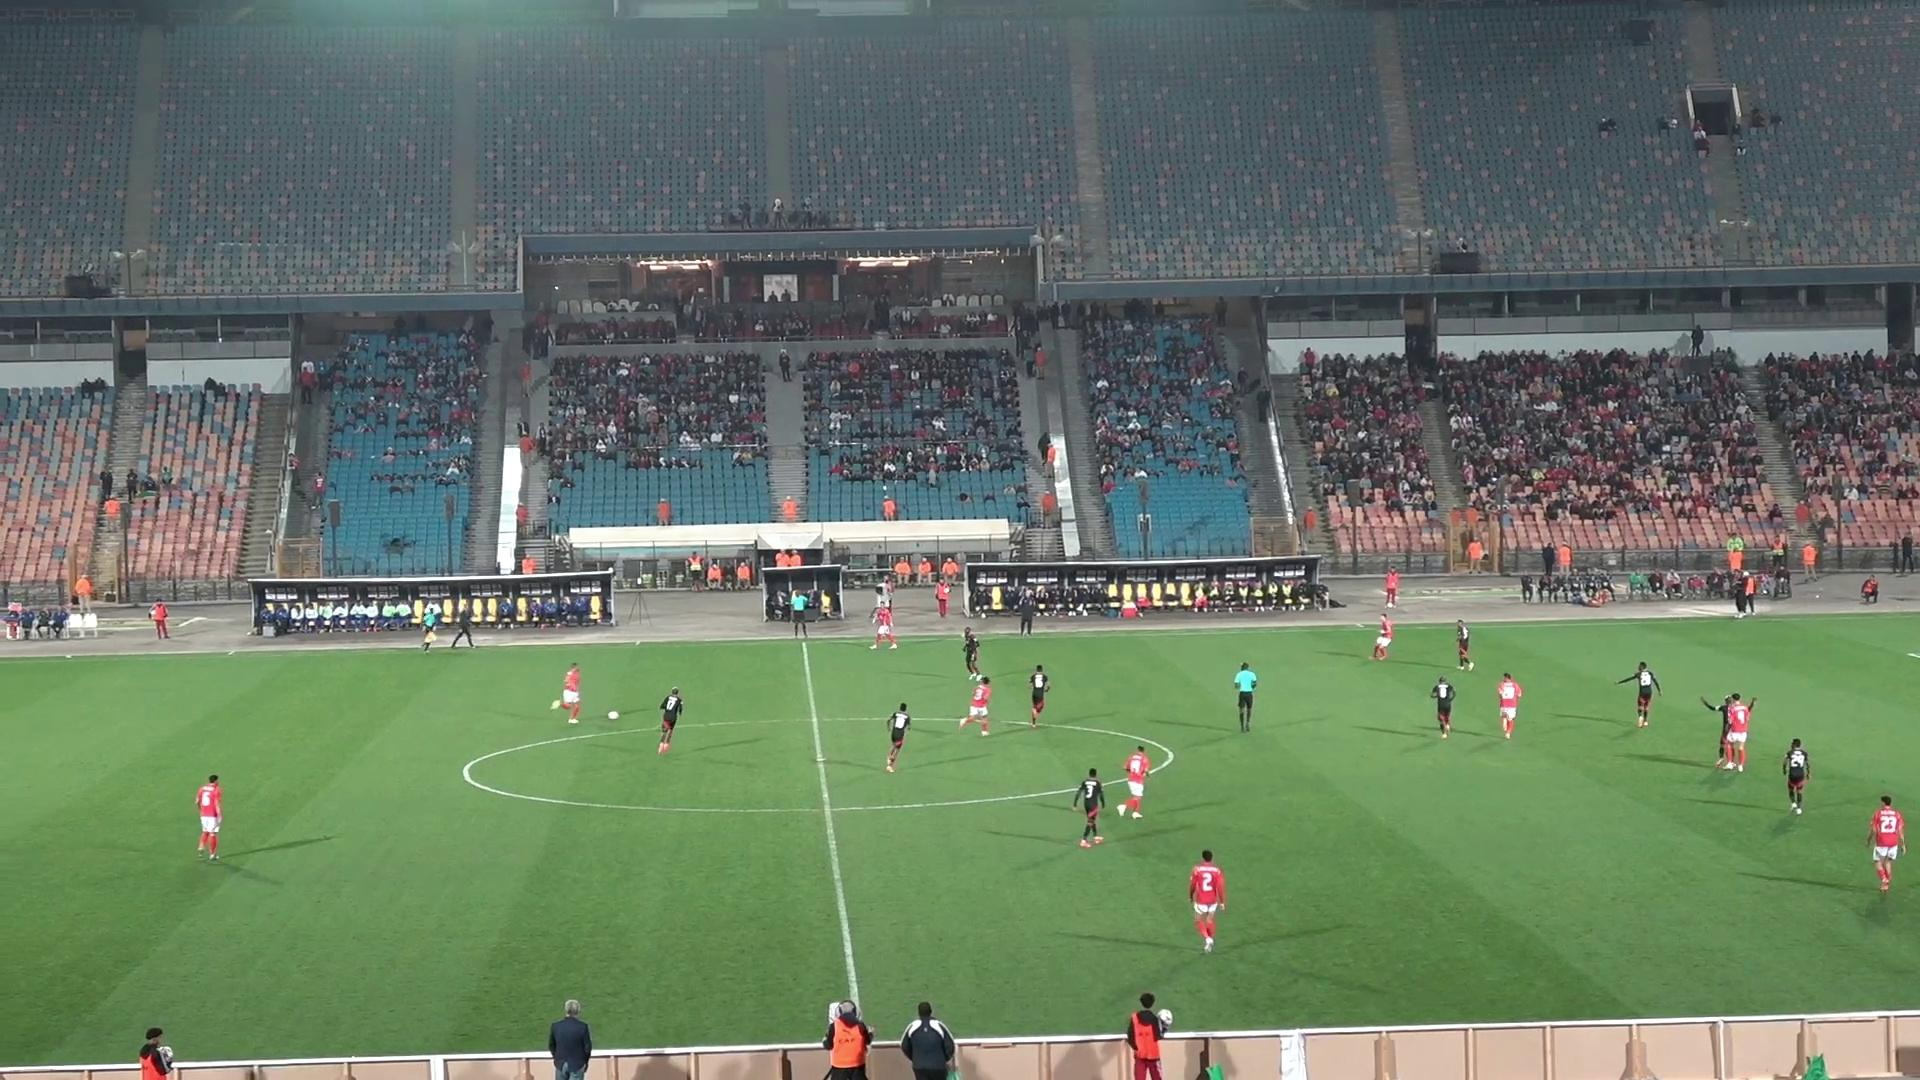Ball: (605, 709, 622, 721)
Refree: (1232, 662, 1258, 733), (787, 589, 815, 636), (419, 604, 440, 651)
Team1: (1866, 794, 1905, 893), (1702, 692, 1753, 770), (1188, 851, 1226, 951), (1116, 746, 1156, 818), (196, 775, 223, 860), (959, 676, 992, 736), (1495, 673, 1523, 738), (551, 663, 582, 723), (870, 603, 898, 649), (1369, 613, 1395, 661), (1163, 752, 1174, 766)
Team2: (1698, 694, 1739, 769), (1617, 662, 1662, 727), (1072, 767, 1105, 848), (1782, 738, 1811, 814), (655, 687, 684, 754), (885, 703, 913, 771), (1429, 675, 1456, 737), (1029, 665, 1052, 727), (961, 626, 982, 678), (1455, 622, 1473, 670)
